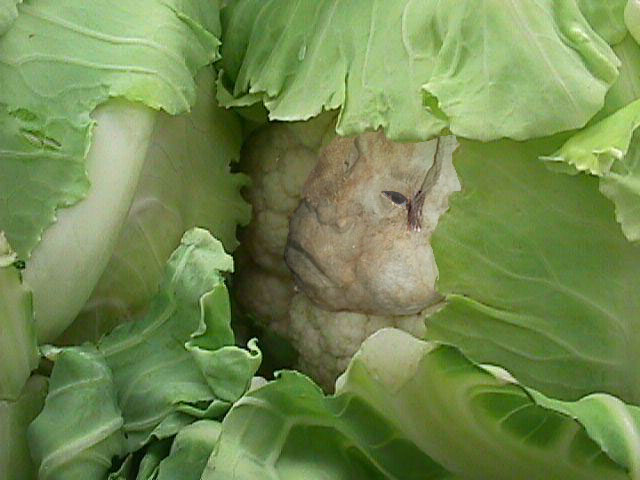cauliflower: (240, 103, 469, 408)
